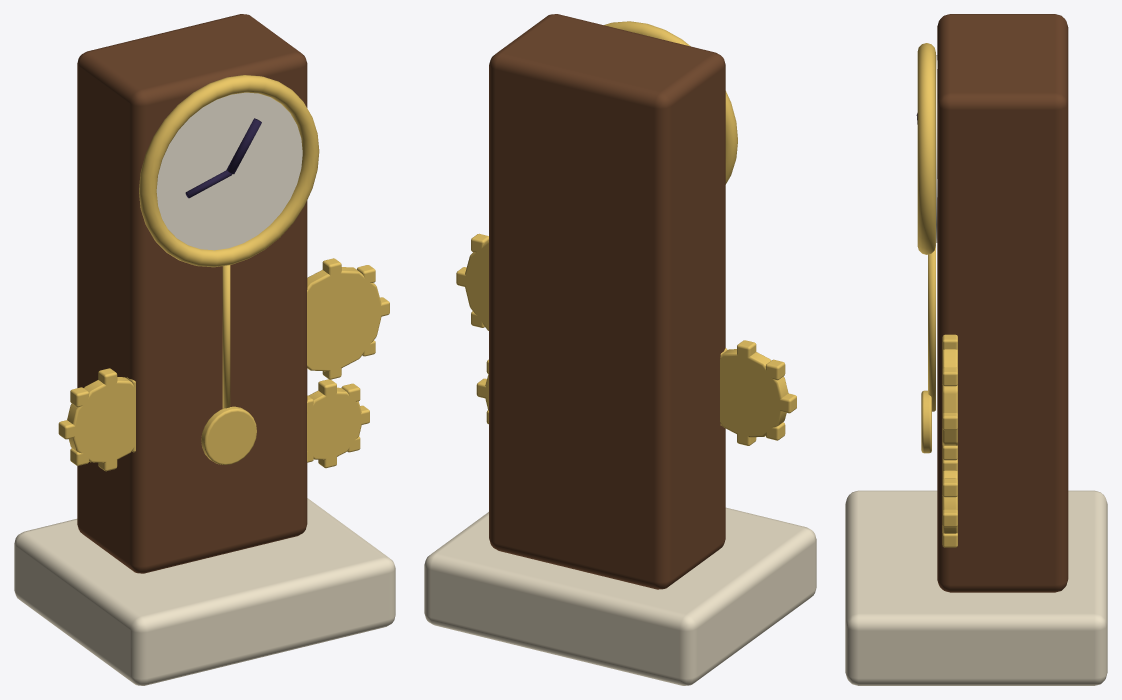
File: clockwork.glb
3 renders of one model, left to right at view 1: azimuth 30°, elevation 25°; view 2: azimuth 150°, elevation 25°; view 3: azimuth 270°, elevation 25°, orthographic. The views are drawn at different scales.
Parts seen in each view (by area): view 1: clockwork; view 2: clockwork; view 3: clockwork.
Boxes of the visible parts, x1,y1,x2,y2 form: clockwork: [14, 14, 395, 685]; clockwork: [424, 14, 816, 685]; clockwork: [845, 14, 1107, 685].
Bounding box in the file's own units: 1.48 × 2.4 × 1.
